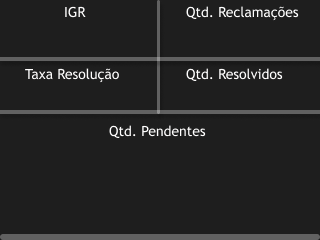

This screenshot's page, from the dashboard's own definition file:
{"tool":"powerbi","page":{"name":"Dica de Ferramenta","canvas":[320,240],"ordinal":2},"visuals":[{"type":"cardVisual","fields":{"Data":["_Medidas.IGR"]},"box":[35,6.2,113,50],"z":0},{"type":"cardVisual","fields":{"Data":["_Medidas.Taxa Resolução"]},"box":[35,62.7,113,50],"z":1000},{"type":"cardVisual","fields":{"Data":["_Medidas.Qtd. Reclamações"]},"box":[185,6.2,113,50],"z":2000},{"type":"cardVisual","fields":{"Data":["_Medidas.Qtd. Resolvidos"]},"box":[185,62.7,113,50],"z":3000},{"type":"cardVisual","fields":{"Data":["_Medidas.Reclamações Pendentes"]},"box":[18.3,141.9,287.6,73.3],"z":4000}]}

Visuals, with their boxes in screenshot pixels (x1, y1, x2, y2), scaled from the page's 320x240 canvas onto the 320x240 screenshot:
cardVisual - _Medidas.IGR: pyautogui.locateOnScreen(35, 6, 148, 56)
cardVisual - _Medidas.Taxa Resolução: pyautogui.locateOnScreen(35, 63, 148, 113)
cardVisual - _Medidas.Qtd. Reclamações: pyautogui.locateOnScreen(185, 6, 298, 56)
cardVisual - _Medidas.Qtd. Resolvidos: pyautogui.locateOnScreen(185, 63, 298, 113)
cardVisual - _Medidas.Reclamações Pendentes: pyautogui.locateOnScreen(18, 142, 306, 215)
